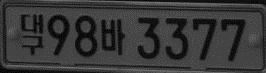3: (137, 16, 161, 59), (165, 17, 188, 60)
7: (220, 18, 246, 61), (192, 17, 217, 61)
8: (74, 14, 98, 57)
9: (46, 13, 70, 56)
대구_V: (19, 13, 45, 56)
바: (101, 18, 126, 57)
